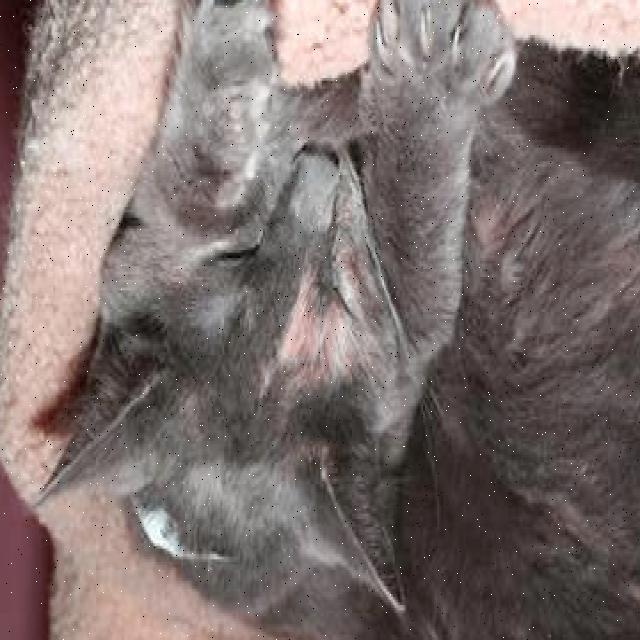Cat: (29, 89, 476, 591)
